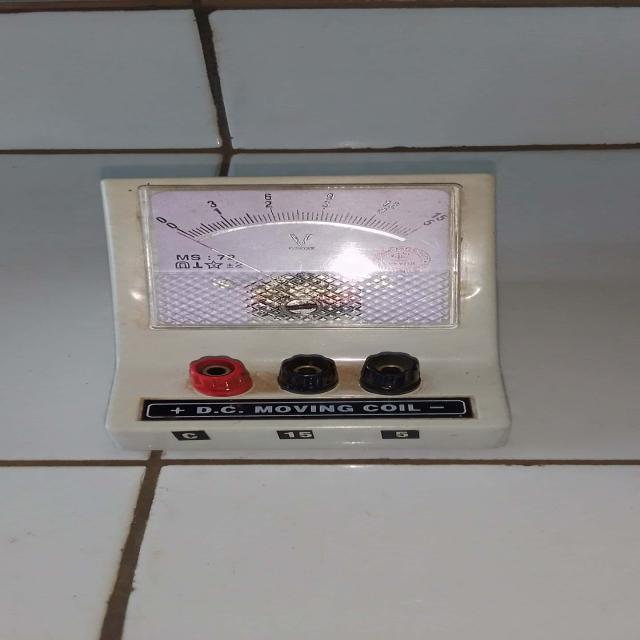Analog Voltmeter: (62, 159, 544, 466)
